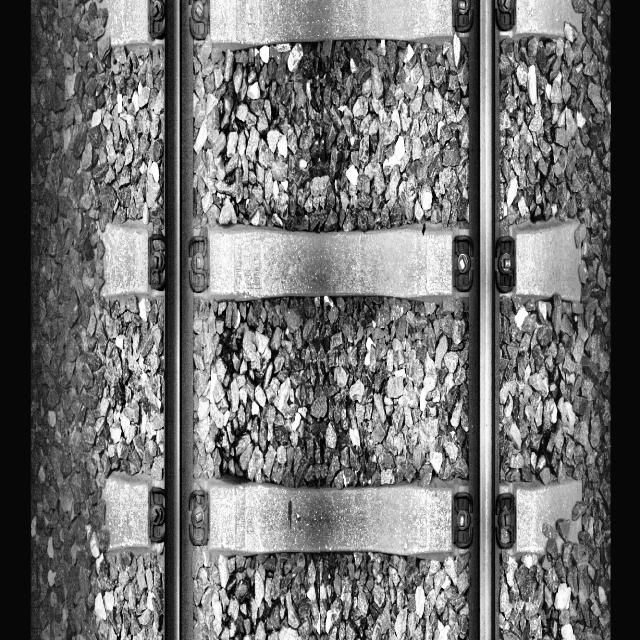Clips: (187, 234, 210, 294), (451, 234, 474, 293), (494, 234, 516, 294), (494, 492, 516, 550), (451, 492, 473, 546), (188, 490, 209, 546), (147, 234, 166, 291), (148, 486, 166, 544), (188, 0, 211, 40), (451, 0, 473, 33), (147, 0, 164, 38), (494, 0, 515, 29)
Sleepers: (100, 471, 584, 557), (95, 218, 582, 302), (90, 0, 583, 47)
